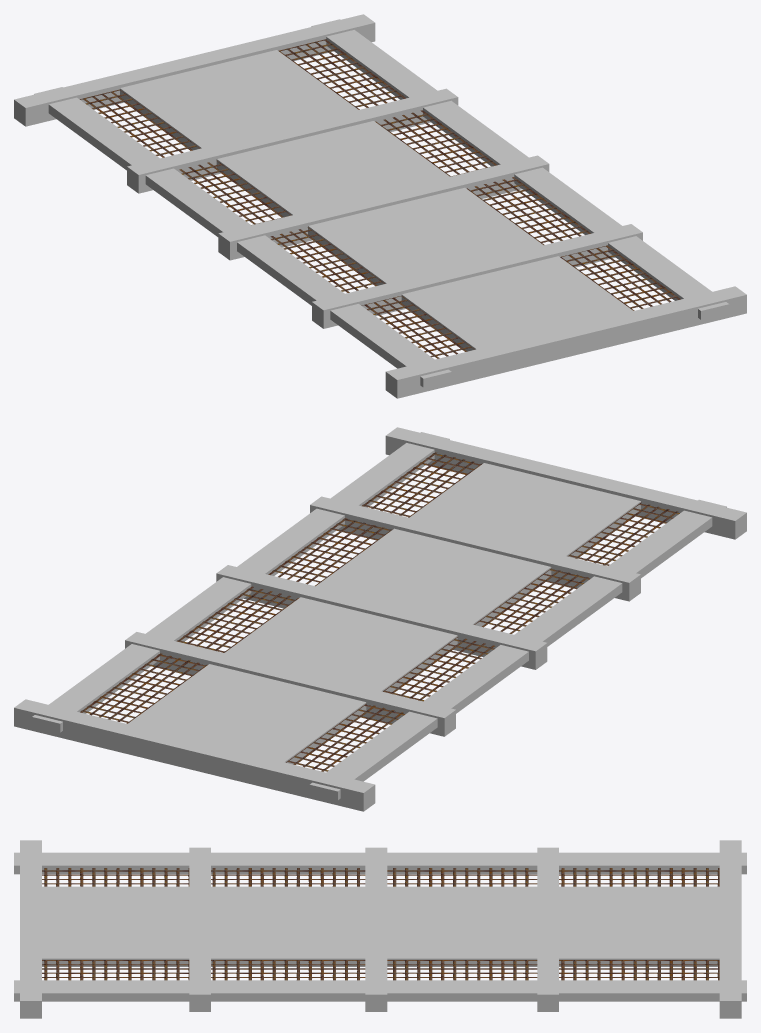
File: environment_Building_qiaoliang_006_f.FBX
3 renders of one model, top to bottom at view 1: azimuth 30°, elevation 25°; view 2: azimuth 150°, elevation 25°; view 3: azimuth 270°, elevation 25°, orthographic. The views are drawn at different scales.
Parts seen in each view (by area): view 1: environment_Building_qiaoliang_006_f1, environment_Building_qiaoliang_006_f2; view 2: environment_Building_qiaoliang_006_f1, environment_Building_qiaoliang_006_f2; view 3: environment_Building_qiaoliang_006_f1, environment_Building_qiaoliang_006_f2.
Part boxes in pixels (box(x1,y1,x2,y2)): environment_Building_qiaoliang_006_f1: box(14, 14, 746, 398); environment_Building_qiaoliang_006_f2: box(80, 39, 680, 358); environment_Building_qiaoliang_006_f1: box(14, 427, 746, 811); environment_Building_qiaoliang_006_f2: box(80, 452, 679, 771); environment_Building_qiaoliang_006_f1: box(14, 840, 746, 1018); environment_Building_qiaoliang_006_f2: box(42, 868, 719, 980).
Bounding box in the file's own units: 816 × 41.67 × 1574.
